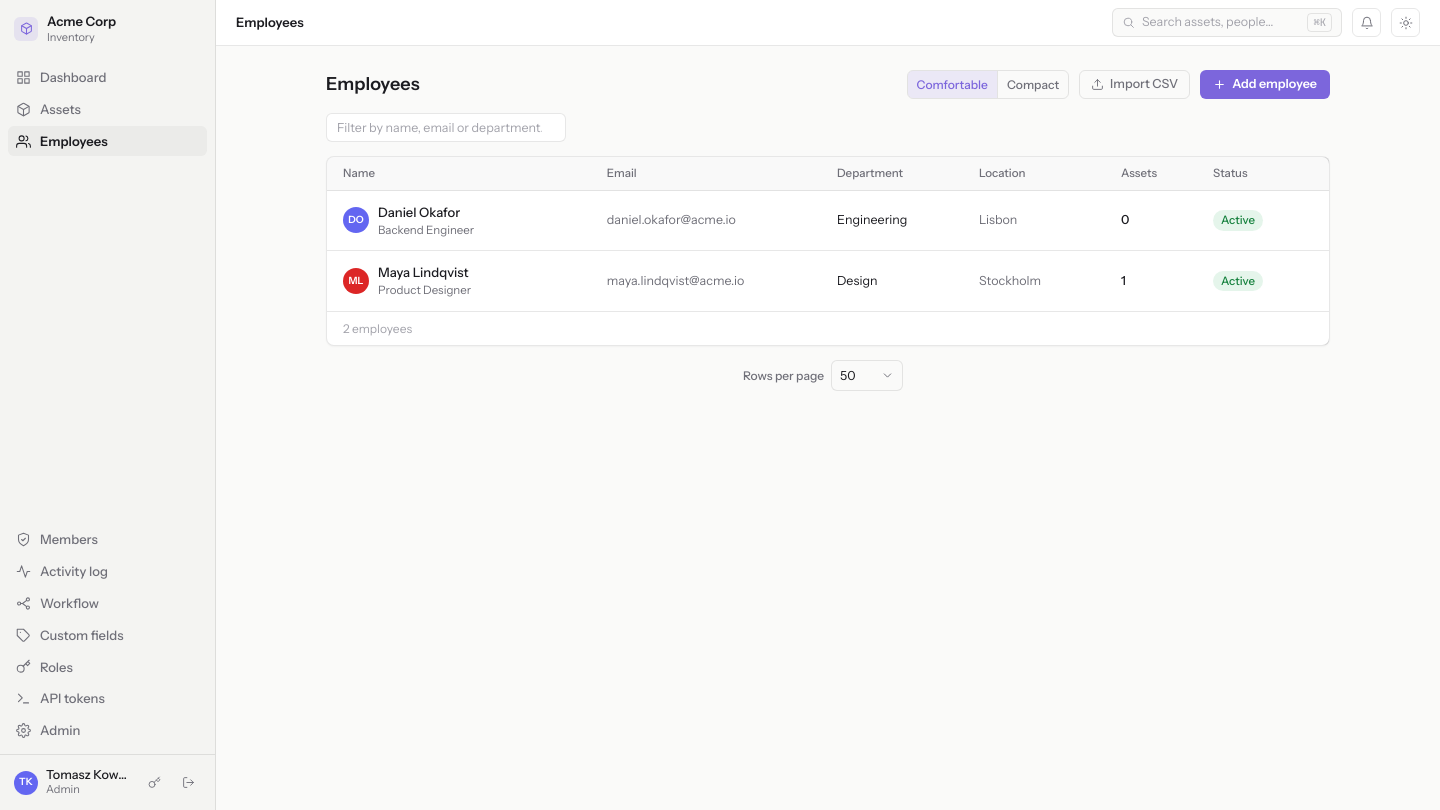
it: employee list › filters by name, email or department
expect the text "Maya Lindqvist" is shown: met, box 378,263 -> 471,282
Type "engineering" into the search field named "filter employees" at (446, 128), box 326,113 -> 566,142
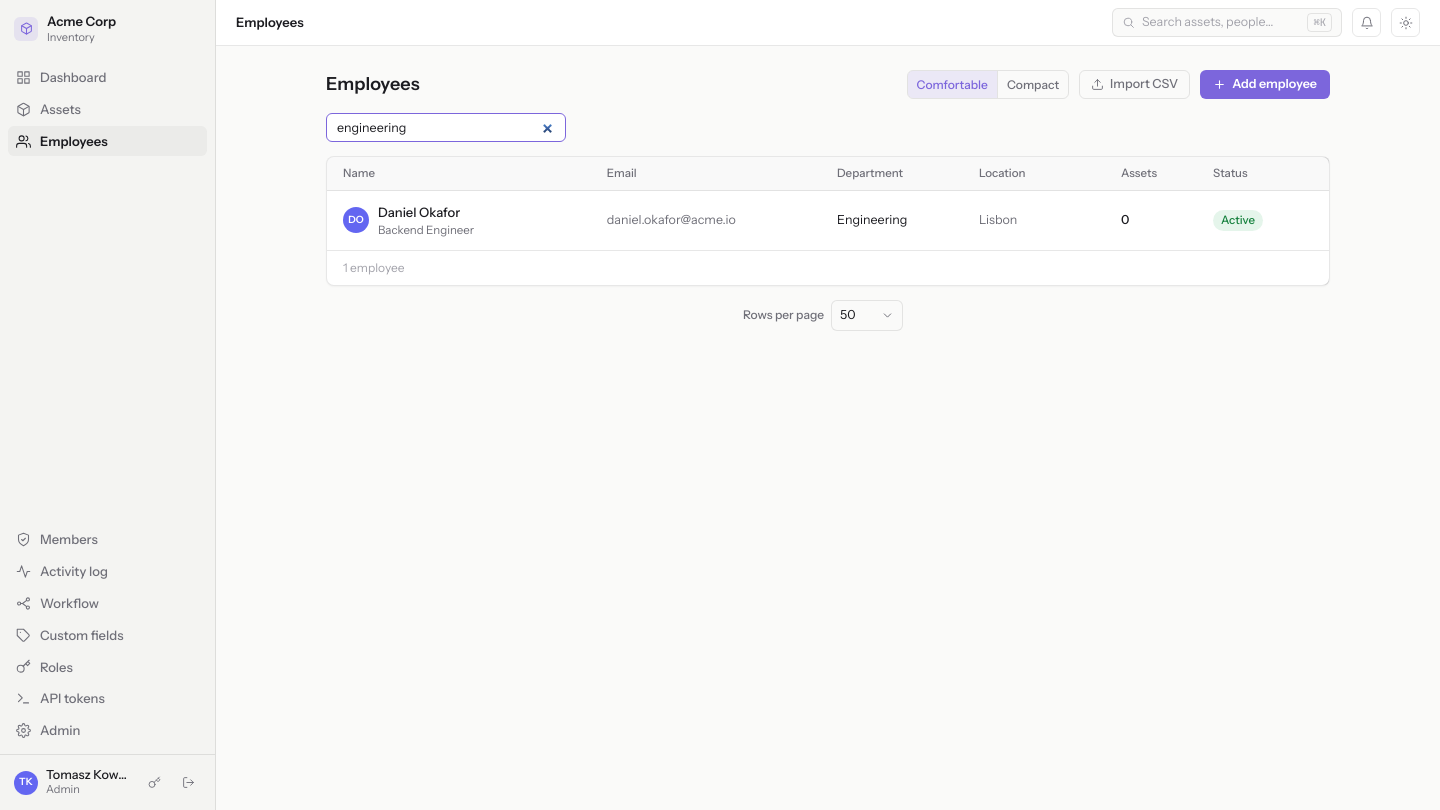
expect the text "Daniel Okafor" is shown: met, box 378,203 -> 474,222
expect the text "Maya Lindqvist" is gone: met
expect the text "1 employee" is shown: met, box 343,260 -> 405,275
